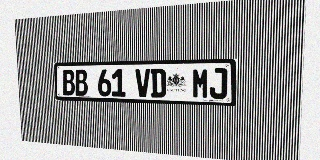1: (111, 69, 125, 97)
6: (97, 69, 111, 96)
B: (74, 69, 88, 96), (62, 70, 75, 95)
D: (150, 68, 166, 98)
J: (209, 68, 227, 99)
M: (192, 68, 209, 99)
V: (135, 69, 150, 97)
